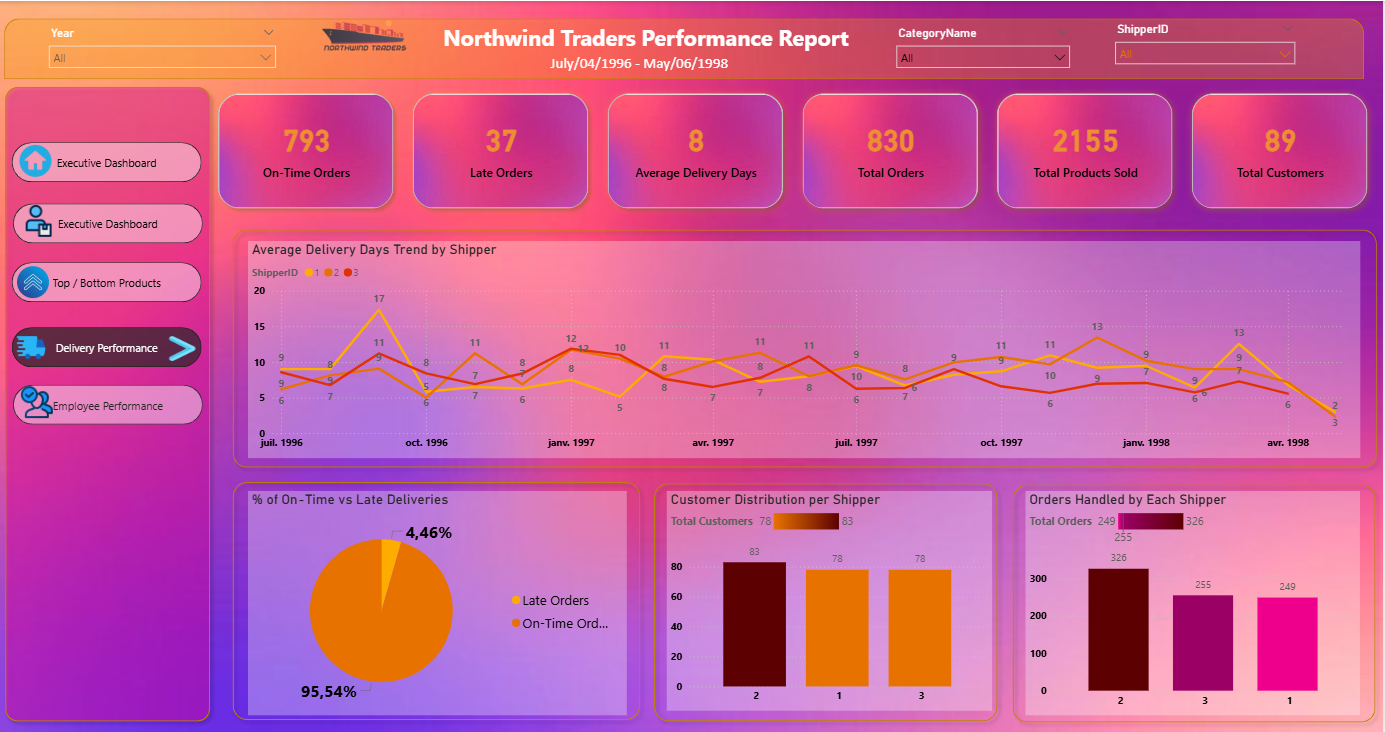

This screenshot's page, from the dashboard's own definition file:
{"tool":"powerbi","page":{"name":"Delivery Performance","canvas":[1700,900],"ordinal":3},"visuals":[{"type":"cardVisual","fields":{"Data":["Measures_table.On Time Orders","Measures_table.Late Orders","Measures_table.Avg Shipping Days","Measures_table.Total Orders","Measures_table.Total Products Sold","Measures_table.Total Customers"]},"box":[253.5,96.4,1446.1,175.7],"z":0},{"type":"shape","box":[7.8,21.8,1668.5,74.6],"z":1000},{"type":"textbox","box":[426.1,21.8,737,49.8],"z":2000},{"type":"textbox","box":[494.5,59.1,586.2,37.3],"z":3000},{"type":"image","box":[379.4,0,138.4,79.3],"z":4000},{"type":"shape","box":[1235.6,585,462.9,309.8],"z":5000},{"type":"shape","box":[278.8,271.5,1421.5,309.8],"z":6000},{"type":"shape","box":[278.8,581.4,517.6,309.8],"z":7000},{"type":"shape","box":[796.4,583.2,439.2,309.8],"z":8000},{"type":"shape","box":[0,96.4,269,796.1],"z":9000},{"type":"slicer","fields":{"Values":["categories.CategoryName"]},"box":[1091.6,26.4,233.2,63.8],"z":10000},{"type":"slicer","fields":{"Values":["shippers.ShipperID"]},"box":[1360.6,21.8,241,96.4],"z":11000},{"type":"pageNavigator","box":[17.1,172.6,233.2,49.8],"z":12000},{"type":"pageNavigator","box":[16.4,320.8,233.3,49.2],"z":13000},{"type":"slicer","fields":{"Values":["Dates.Date.Variation.Date Hierarchy.Year"]},"box":[52.9,25.5,298.9,65.6],"z":14000},{"type":"image","box":[14.6,320.8,54.7,49.2],"z":18000},{"type":"image","box":[18.2,171.3,54.7,49.2],"z":19000},{"type":"lineChart","title":"Average Delivery Days Trend by Shipper","fields":{"Y":["Measures_table.Average Delivery Days"],"Series":["shippers.ShipperID"],"Category":["Dates.Date.Variation.Date Hierarchy.Year","Dates.Date.Variation.Date Hierarchy.Month"]},"box":[306.2,295.2,1365,266.1],"z":20000},{"type":"pieChart","title":"% of On-Time vs Late Deliveries","fields":{"Y":["Measures_table.Late Orders","Measures_table.On Time Orders"]},"box":[306.2,601.4,464.7,275.2],"z":21000},{"type":"clusteredColumnChart","title":"Orders Handled by Each Shipper","fields":{"Y":["Measures_table.OrderCount"],"Category":["shippers.ShipperID"]},"box":[1261.2,601.4,410.1,275.2],"z":22000},{"type":"pageNavigator","box":[16.4,400.9,233.3,49.2],"z":26000},{"type":"image","box":[12.8,400.9,56.5,49.2],"z":27000},{"type":"clusteredColumnChart","title":"Customer Distribution per Shipper","fields":{"Y":["Measures_table.Total Customers"],"Category":["shippers.ShipperID"]},"box":[820.1,601.4,399.1,269.7],"z":28000},{"type":"pageNavigator","box":[18.2,470.2,233.3,49.2],"z":29000},{"type":"image","box":[16.4,468.4,62,49.2],"z":30000},{"type":"pageNavigator","box":[18.2,247.9,233.3,49.2],"z":31000},{"type":"image","box":[202.3,406.4,47.4,40.1],"z":32000},{"type":"image","box":[21.9,246,56.5,49.2],"z":33000}]}

Visuals, with their boxes in screenshot pixels (x1, y1, x2, y2), scaled from the page's 1700x900 canvas onto the 1385x732 screenshot:
cardVisual - Measures_table.On Time Orders x Measures_table.Late Orders: (left=207, top=78, right=1384, bottom=221)
shape: (left=6, top=18, right=1366, bottom=78)
textbox: (left=347, top=18, right=948, bottom=58)
textbox: (left=403, top=48, right=880, bottom=78)
image: (left=309, top=0, right=422, bottom=64)
shape: (left=1007, top=476, right=1384, bottom=728)
shape: (left=227, top=221, right=1384, bottom=473)
shape: (left=227, top=473, right=649, bottom=725)
shape: (left=649, top=474, right=1007, bottom=726)
shape: (left=0, top=78, right=219, bottom=726)
slicer - categories.CategoryName: (left=889, top=21, right=1079, bottom=73)
slicer - shippers.ShipperID: (left=1108, top=18, right=1305, bottom=96)
pageNavigator: (left=14, top=140, right=204, bottom=181)
pageNavigator: (left=13, top=261, right=203, bottom=301)
slicer - Dates.Date.Variation.Date Hierarchy.Year: (left=43, top=21, right=287, bottom=74)
image: (left=12, top=261, right=56, bottom=301)
image: (left=15, top=139, right=59, bottom=179)
"Average Delivery Days Trend by Shipper" lineChart: (left=249, top=240, right=1362, bottom=457)
"% of On-Time vs Late Deliveries" pieChart: (left=249, top=489, right=628, bottom=713)
"Orders Handled by Each Shipper" clusteredColumnChart: (left=1028, top=489, right=1362, bottom=713)
pageNavigator: (left=13, top=326, right=203, bottom=366)
image: (left=10, top=326, right=56, bottom=366)
"Customer Distribution per Shipper" clusteredColumnChart: (left=668, top=489, right=993, bottom=708)
pageNavigator: (left=15, top=382, right=205, bottom=422)
image: (left=13, top=381, right=64, bottom=421)
pageNavigator: (left=15, top=202, right=205, bottom=242)
image: (left=165, top=331, right=203, bottom=363)
image: (left=18, top=200, right=64, bottom=240)
